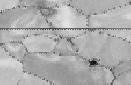good_void: (86, 55, 100, 71)
